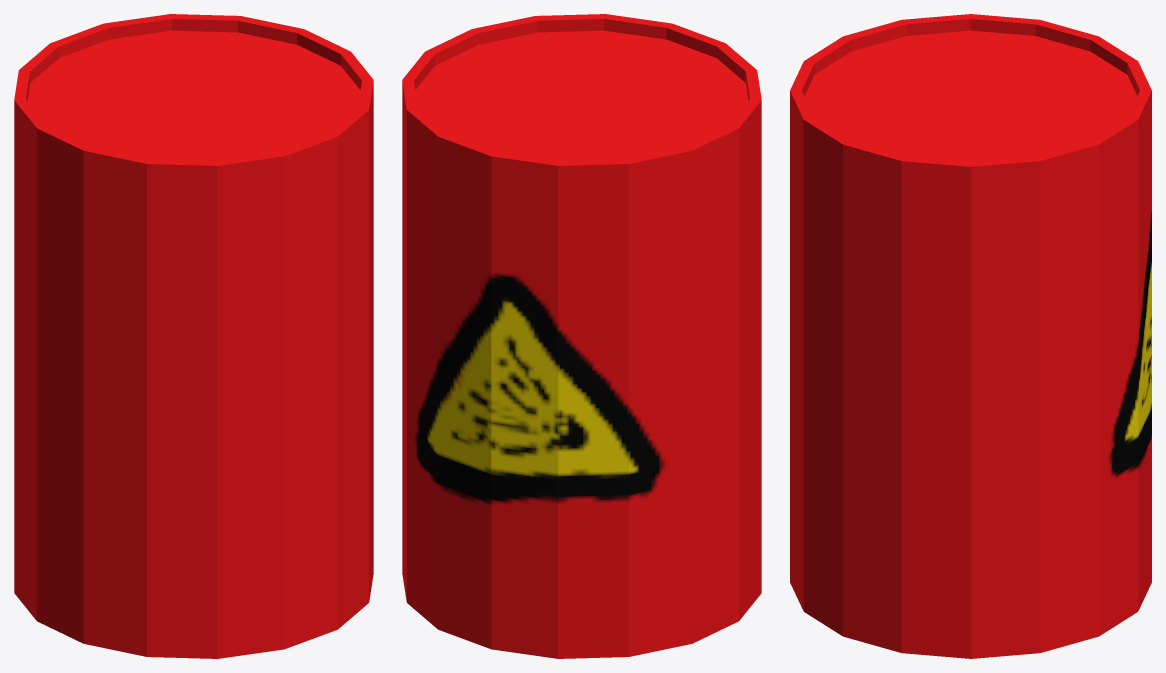
File: bochka.fbx
3 renders of one model, left to right at view 1: azimuth 30°, elevation 25°; view 2: azimuth 150°, elevation 25°; view 3: azimuth 270°, elevation 25°, orthographic.
Visible parts, largest first — view 1: бочка; view 2: бочка; view 3: бочка.
Part boxes in pixels (x1,y1,x2,y2): бочка: [14, 14, 373, 658]; бочка: [402, 14, 761, 658]; бочка: [790, 14, 1151, 658].
Size of the model in its own units: 400 by 600 by 400.
